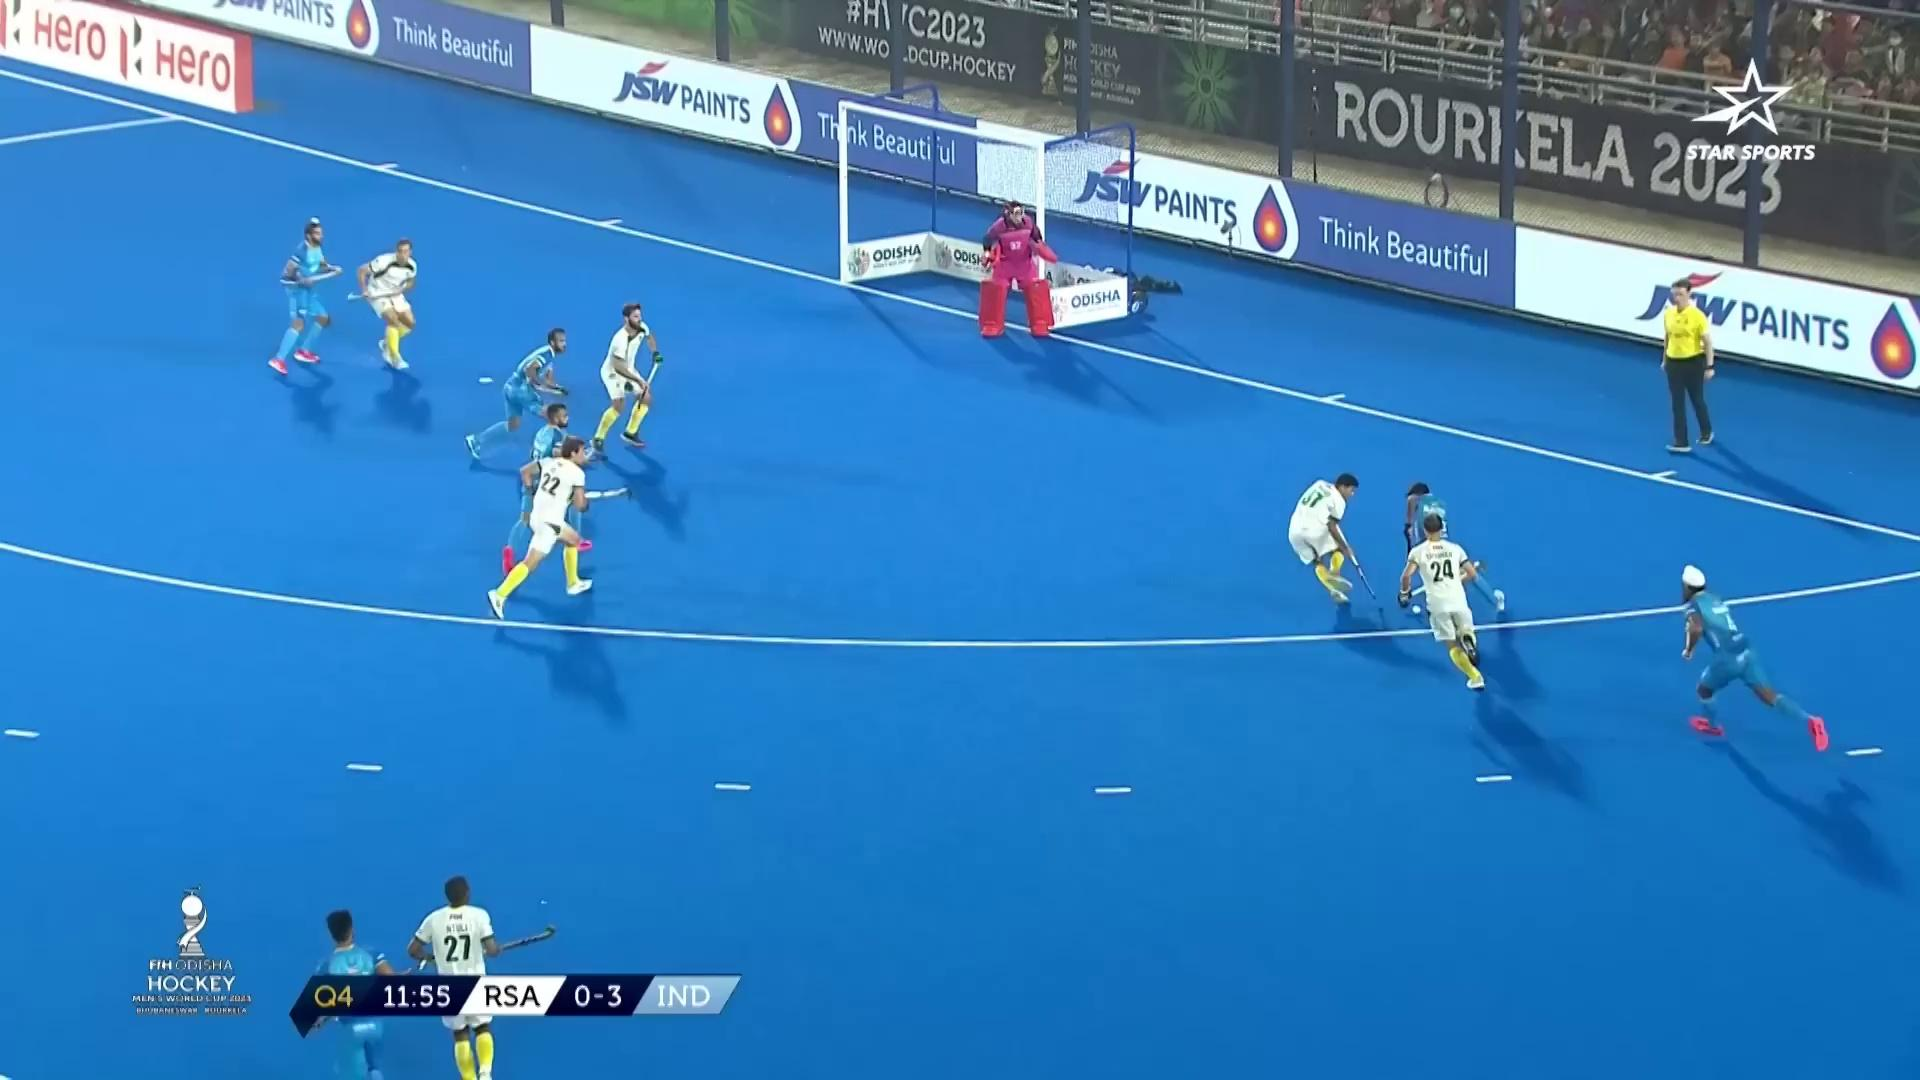ball: (1412, 603, 1422, 615)
